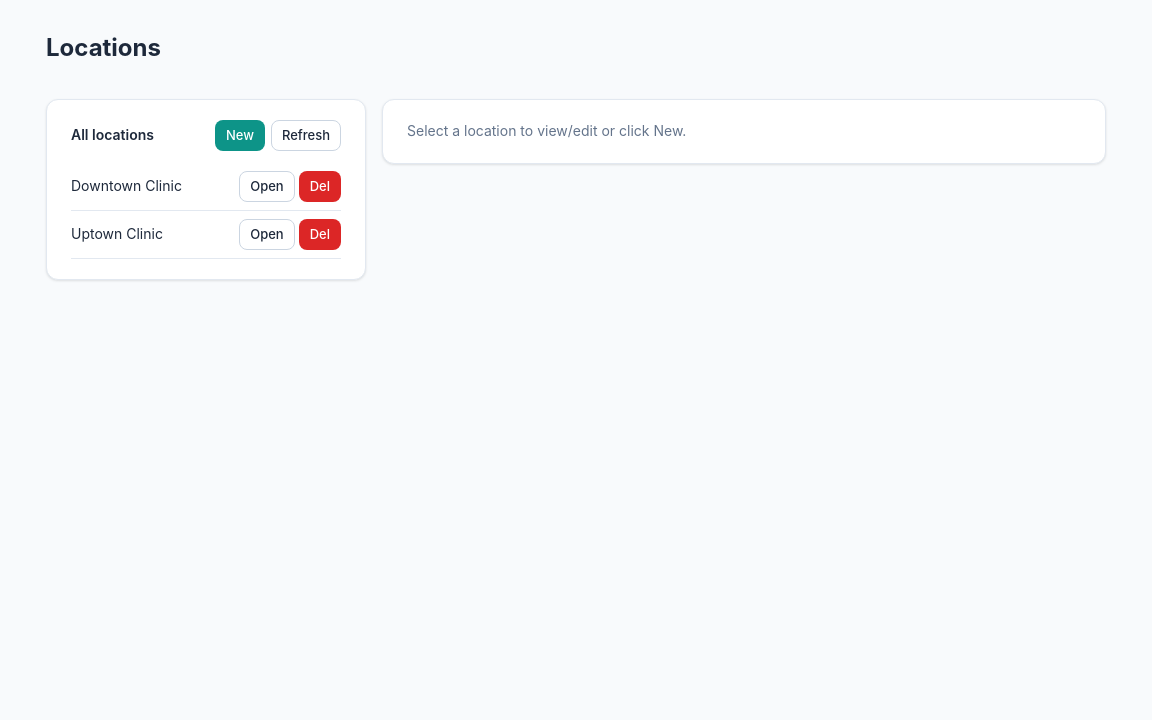
Test: LocationsPage › clicking Open loads the location read-only
Expected: the text "Downtown Clinic" is shown, [71,175,182,198]
Click the button "Open" next to "Uptown Clinic". click: point(267, 234)
box: [239,219,295,250]
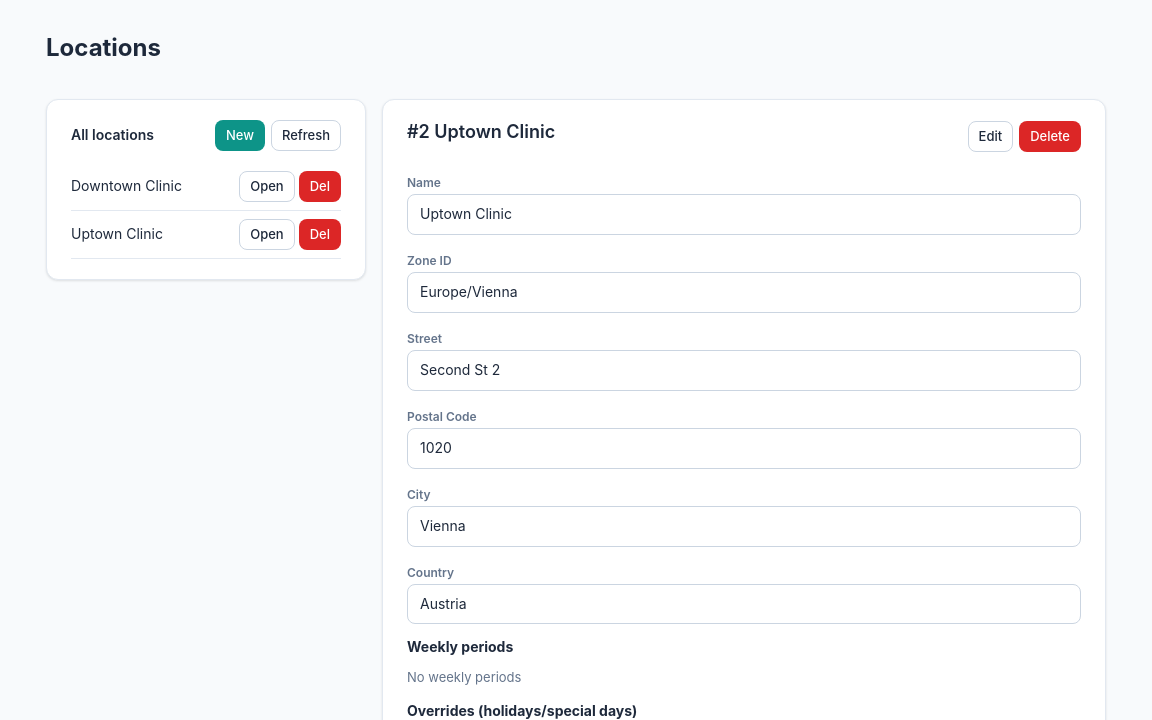
Now the heading "#2 Uptown Clinic" is shown, box [407,120,555,144]
